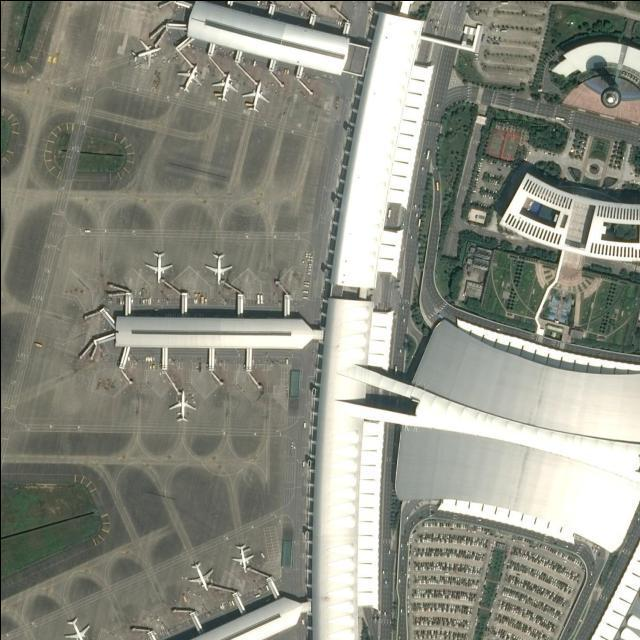Aircraft: (167, 387, 196, 421), (239, 79, 269, 110), (143, 249, 172, 281), (210, 70, 237, 102), (203, 252, 231, 282), (129, 38, 161, 63), (174, 62, 199, 92), (186, 559, 210, 589), (231, 541, 254, 571), (61, 615, 88, 640)
